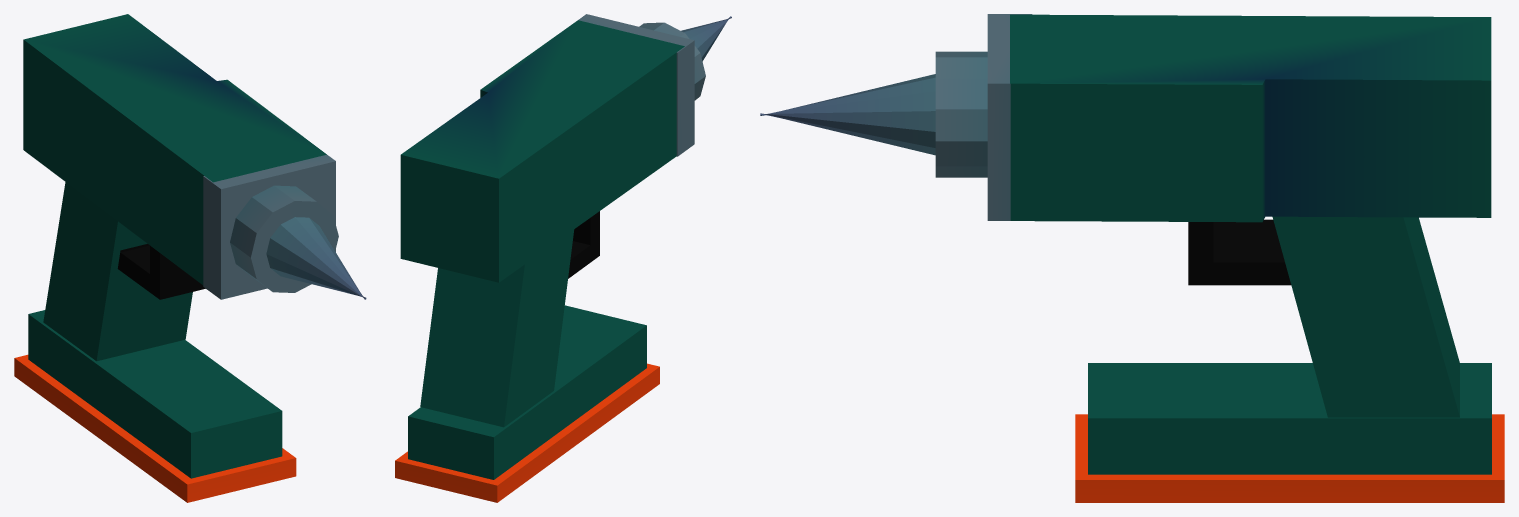
3 renders of one model, left to right at view 1: azimuth 30°, elevation 25°; view 2: azimuth 150°, elevation 25°; view 3: azimuth 270°, elevation 25°, orthographic. The views are drawn at different scales.
Parts seen in each view (by area): view 1: head, plinth, sloping_column, end_plate, ledge, collar, point, hanging_bracket; view 2: head, sloping_column, plinth, ledge, end_plate, hanging_bracket, collar, point; view 3: head, plinth, sloping_column, ledge, point, collar, hanging_bracket, end_plate.
Boxes of the visible parts, x1,y1,x2,y2 form: head: (23, 14, 326, 285); plinth: (28, 310, 282, 478); sloping_column: (43, 182, 192, 361); end_plate: (203, 154, 335, 299); ledge: (14, 354, 296, 502); collar: (230, 185, 338, 292); point: (266, 217, 366, 299); hanging_bracket: (117, 244, 205, 299); head: (400, 20, 684, 282); sloping_column: (420, 229, 574, 427); plinth: (408, 305, 646, 479); ledge: (395, 363, 659, 502); end_plate: (578, 14, 694, 156); hanging_bracket: (568, 211, 599, 278); collar: (639, 22, 705, 100); point: (681, 16, 731, 61); head: (1010, 14, 1491, 222); plinth: (1088, 363, 1491, 474); sloping_column: (1272, 216, 1459, 417); ledge: (1075, 414, 1504, 502); point: (760, 74, 935, 155); collar: (935, 51, 987, 177); hanging_bracket: (1188, 219, 1291, 285); end_plate: (987, 14, 1032, 220).
Size of the model in its own units: 0.113 by 0.3135 by 0.501.
